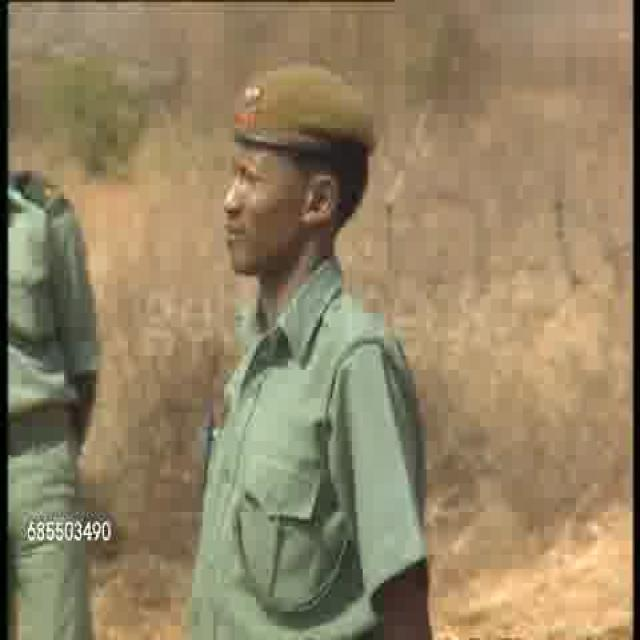poacher: (142, 49, 436, 614)
